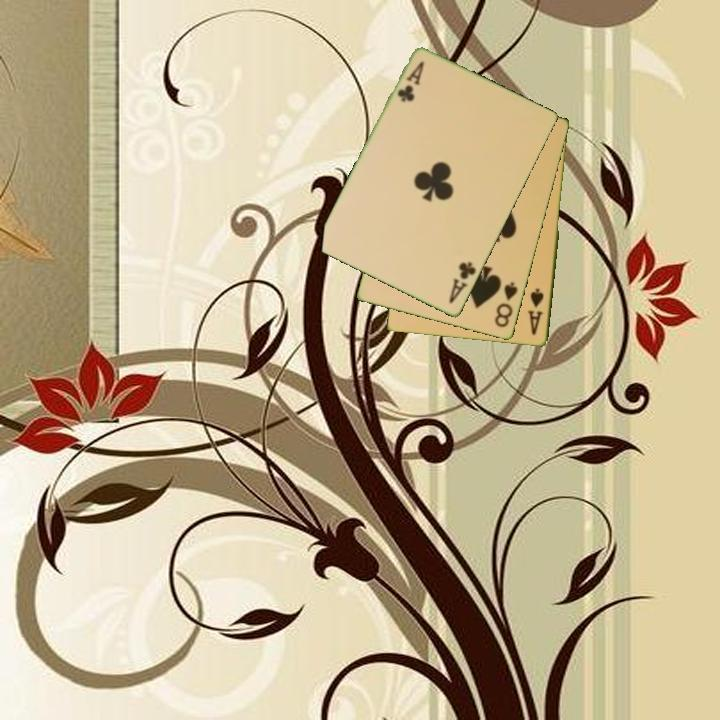8s: (491, 279, 521, 331)
Ac: (445, 259, 479, 307), (394, 58, 427, 105)
As: (524, 285, 547, 338)
